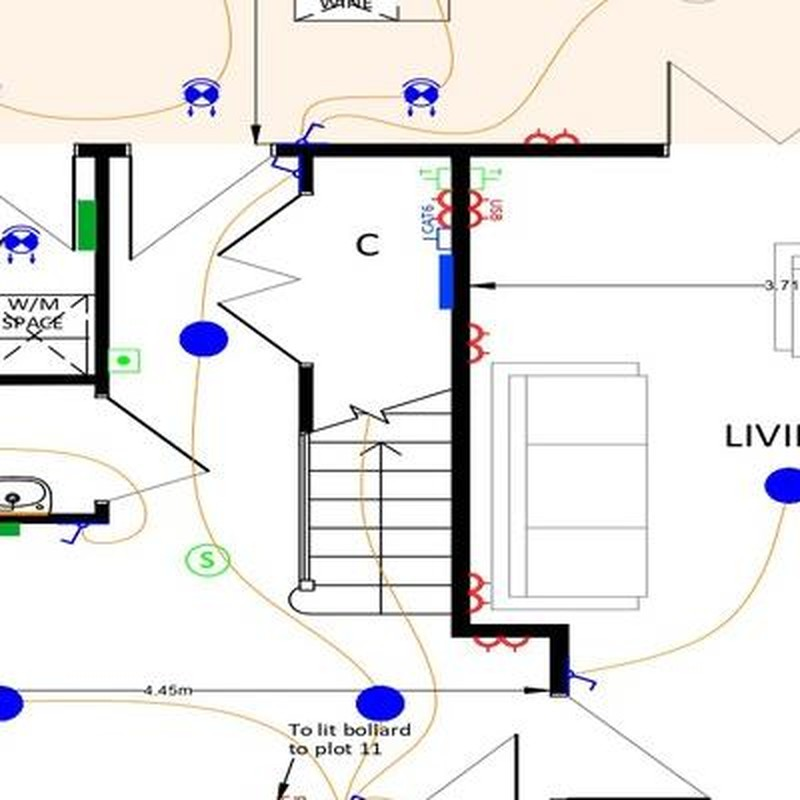Double Socket: (474, 637, 528, 654), (469, 573, 491, 613), (525, 128, 579, 144), (470, 323, 490, 364), (433, 191, 452, 229)
Light Switch: (569, 670, 597, 692), (61, 523, 89, 545), (297, 122, 325, 144), (271, 157, 299, 179)
Low Energy Downlighter: (182, 77, 221, 117), (403, 77, 440, 117), (3, 225, 40, 264)
Low Energy Pendant Light: (181, 322, 228, 358), (357, 686, 405, 721), (765, 467, 800, 505), (1, 686, 24, 722)
Mains Wired Smoke Detector: (186, 544, 230, 576)
Programmable Room Thermostat: (108, 348, 140, 373)
Radiator: (78, 202, 96, 250), (1, 524, 20, 536)
Telephone Socket: (420, 166, 451, 191), (469, 167, 502, 190)
USB Double Socket: (470, 190, 503, 228)
Underfloor Heating Manifold: (439, 255, 452, 309)
